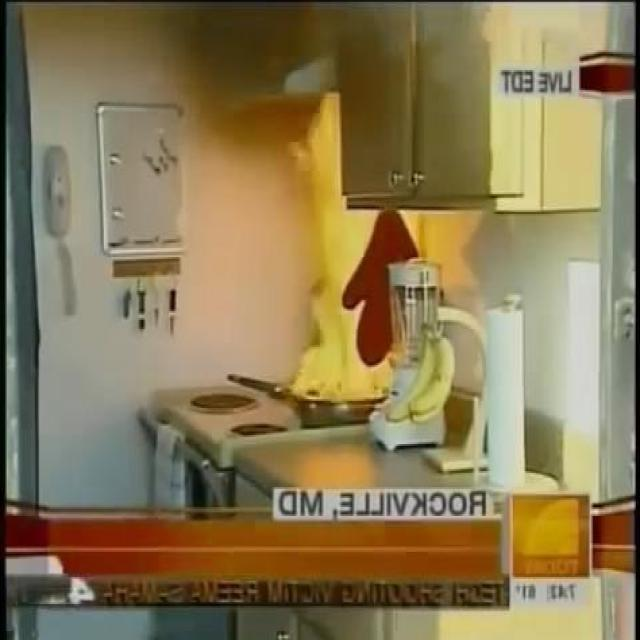smoke: (288, 96, 388, 411)
